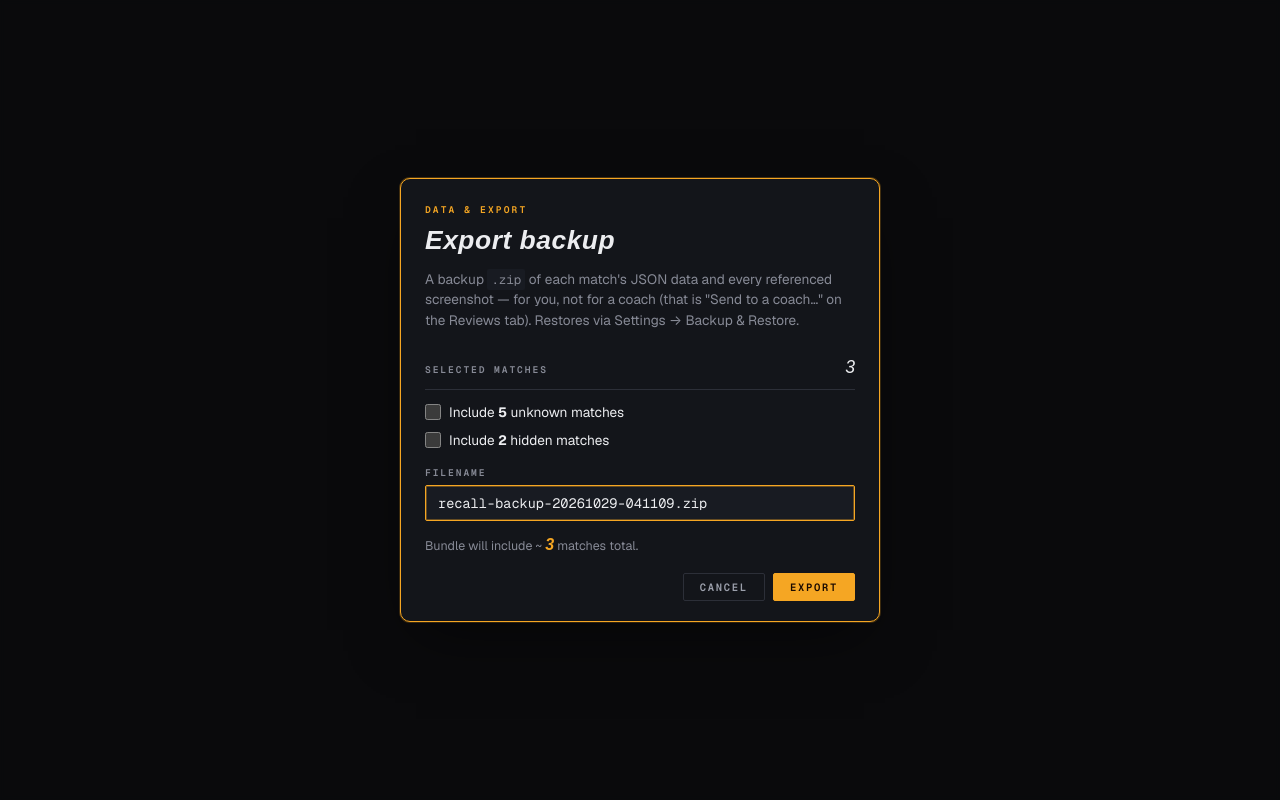
Test: ExportBundleModal — preview count math › adds both when both toggles are ticked
What coordinates should you click on to do the following:
click the checkbox labelled "Include 2 hidden matches"
I would click on:
 (433, 440)
Its box is [425,432,441,448].
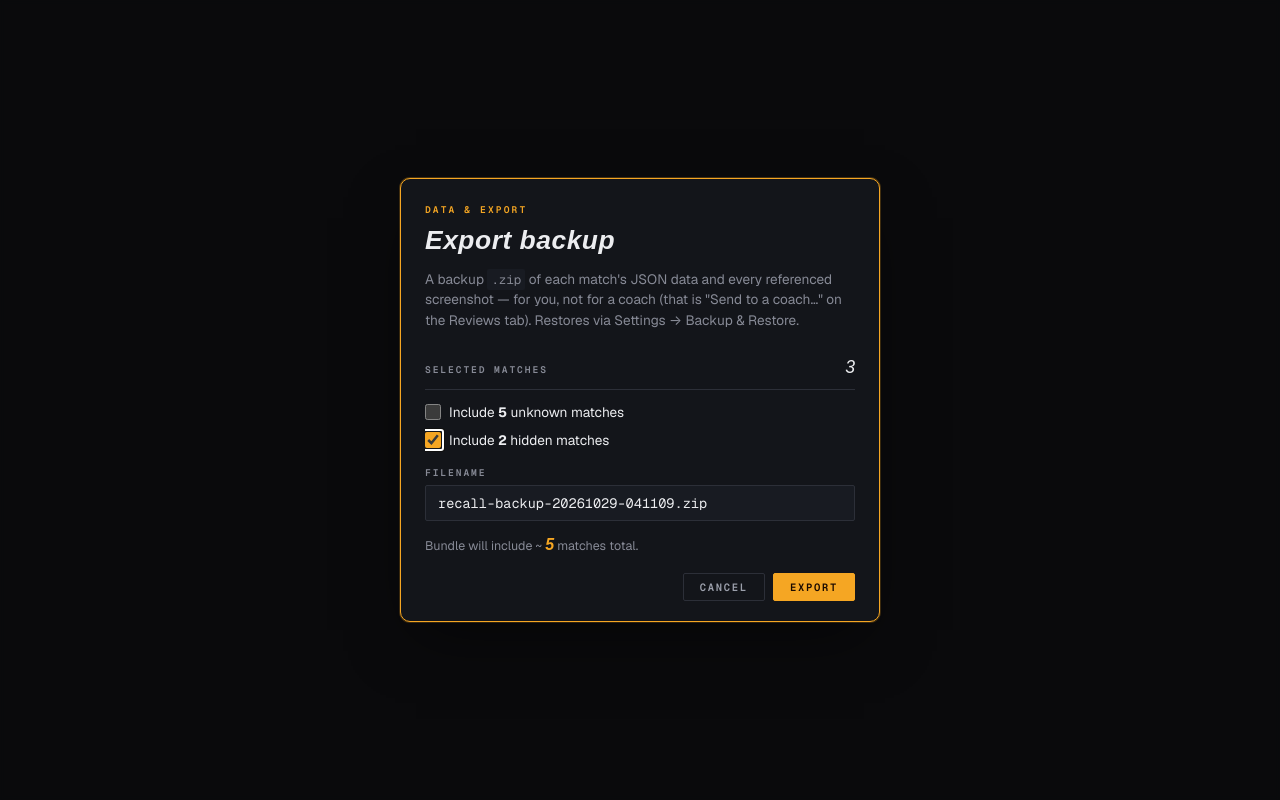
What coordinates should you click on to do the following:
click the checkbox labelled "Include 5 unknown matches"
I would click on:
 (433, 412)
Its box is [425,404,441,420].
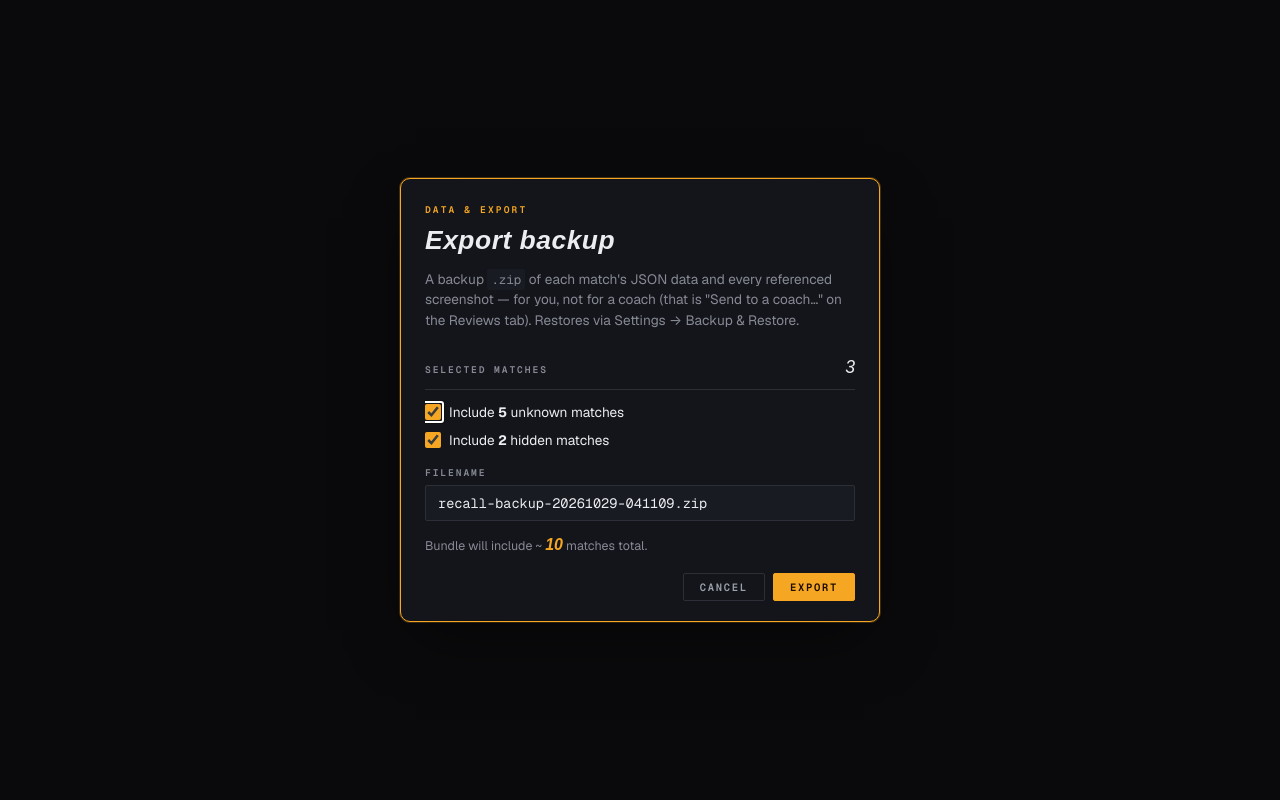
Now the text "Bundle will include ~ 10 matches total." is shown, box [425,536,647,554]
